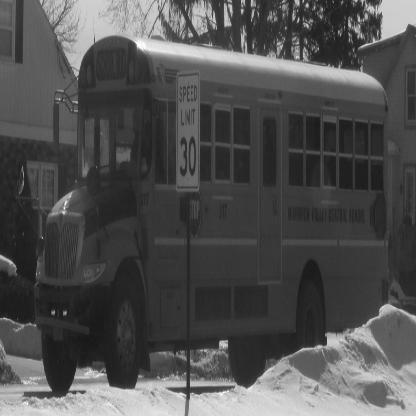bus: (21, 33, 394, 390)
